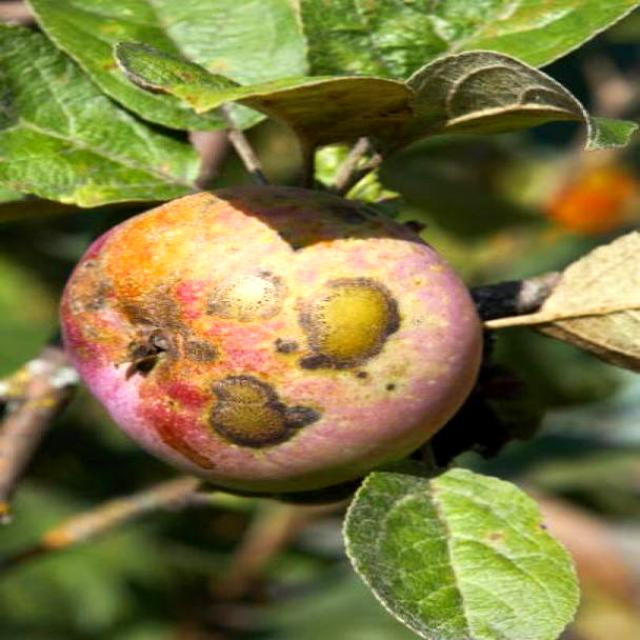SCAB: (48, 163, 514, 509)
